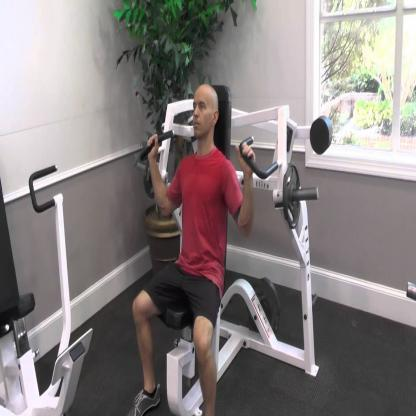shoulder press machine: (141, 86, 333, 378)
